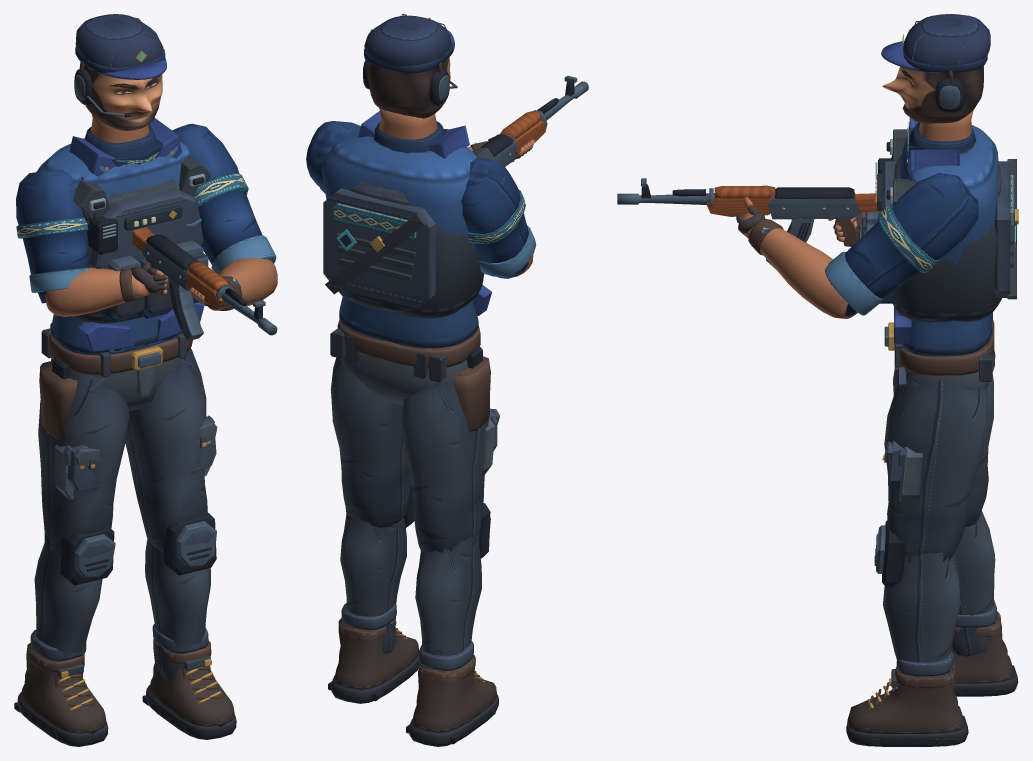
File: operative_male.glb
3 views of the same model, side by side, from view 1: azimuth 30°, elevation 25°; view 2: azimuth 150°, elevation 25°; view 3: azimuth 270°, elevation 25° (orthographic).
Visible parts, largest first — view 1: torso, thigh_l, thigh_r, head, shin_l, shin_r, pelvis, upper_arm_r, upper_arm_l, foot_r, foot_l, rifle (+2 smaller); view 2: torso, thigh_r, thigh_l, head, pelvis, shin_r, shin_l, upper_arm_r, foot_r, foot_l, rifle, upper_arm_l; view 3: torso, thigh_l, upper_arm_l, head, shin_l, foot_l, rifle, forearm_l, shin_r, pelvis, foot_r, thigh_r.
Boxes of the visible parts, x1,y1,x2,y2 form: torso: [36, 118, 211, 354]; thigh_l: [125, 348, 217, 551]; thigh_r: [38, 373, 129, 554]; head: [74, 14, 166, 142]; shin_l: [145, 511, 216, 680]; shin_r: [30, 526, 115, 680]; pelvis: [39, 328, 194, 439]; upper_arm_r: [16, 169, 89, 303]; upper_arm_l: [172, 123, 276, 274]; foot_r: [14, 643, 108, 746]; foot_l: [142, 639, 236, 739]; rifle: [132, 227, 277, 340]; torso: [322, 111, 495, 348]; thigh_r: [401, 367, 499, 552]; thigh_l: [330, 357, 411, 527]; head: [363, 14, 457, 139]; pelvis: [330, 319, 490, 432]; shin_r: [415, 503, 490, 687]; shin_l: [340, 482, 414, 653]; upper_arm_r: [461, 158, 536, 278]; foot_r: [406, 654, 498, 746]; foot_l: [328, 617, 418, 703]; rifle: [480, 75, 588, 166]; upper_arm_l: [306, 121, 360, 193]; torso: [858, 117, 1018, 356]; thigh_l: [882, 373, 988, 563]; upper_arm_l: [825, 172, 978, 316]; head: [881, 14, 990, 141]; shin_l: [874, 520, 960, 676]; foot_l: [846, 662, 968, 746]; rifle: [617, 178, 881, 268]; forearm_l: [736, 197, 856, 318]; shin_r: [952, 511, 997, 656]; pelvis: [884, 319, 995, 389]; foot_r: [951, 611, 1018, 696]; thigh_r: [893, 370, 993, 526].
Size of the model in its own units: 0.5876 by 1.86 by 0.986.
4 materials, 4 textured.
